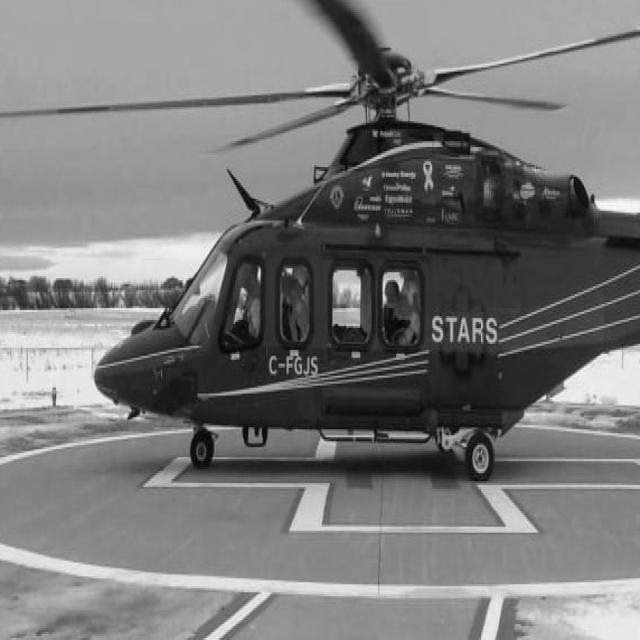helicopter: (80, 1, 640, 496)
